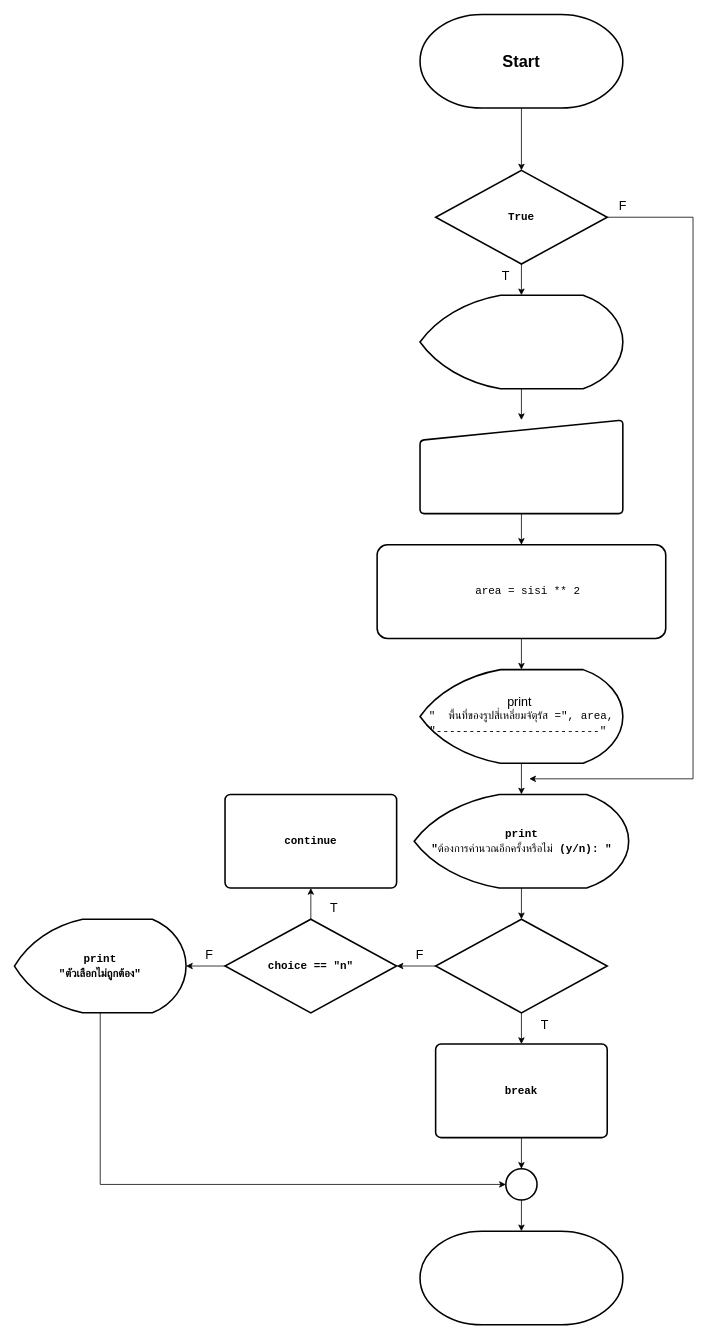
The diagram is 713 pixels wide and 1338 high, and some of its shapes have lost their labels. Here are the shapes that lost their labels. From the top down, the centre of each, then its label:
[521,341]: print " คำนวณพื้นที่ของรูปสี่เหลี่ยมจัตุรัส "
[521,466]: sisi
[521,965]: choice == "y"
[521,1277]: Stop
